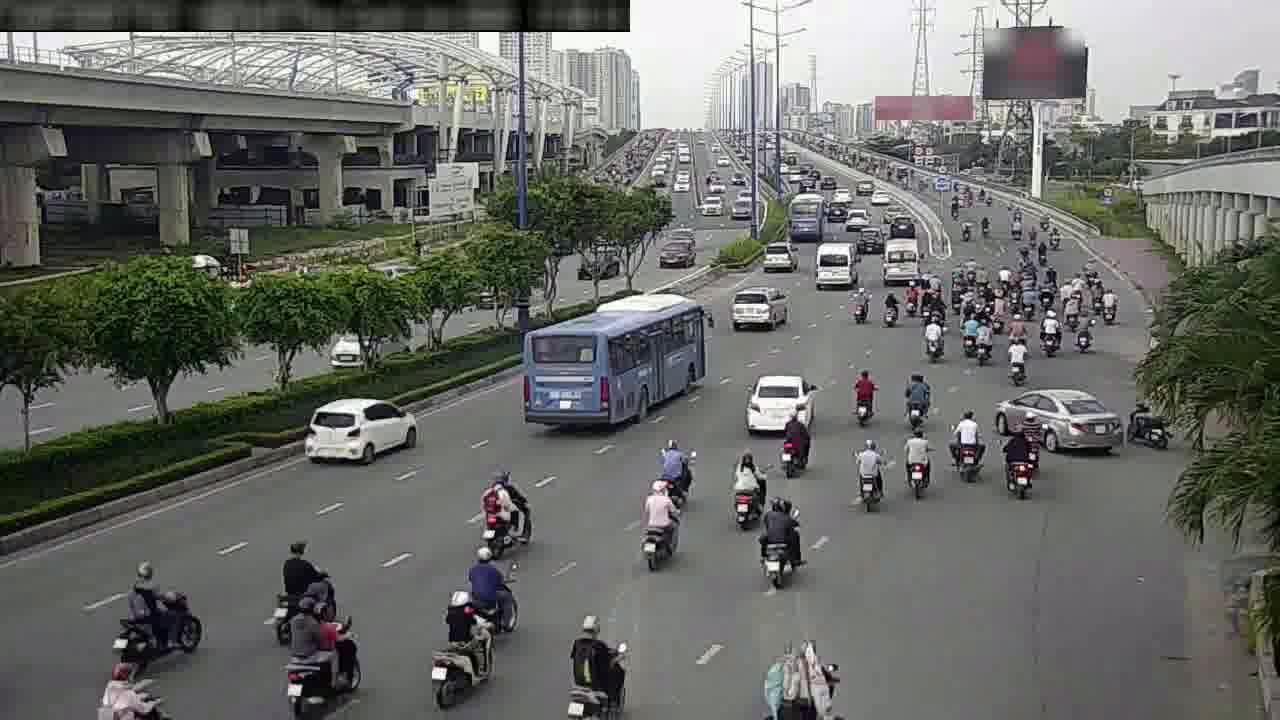14: (542, 299, 705, 410), (812, 242, 854, 288), (879, 237, 919, 279)
container: (994, 381, 1116, 462), (302, 388, 422, 461), (745, 371, 812, 433), (726, 281, 787, 330), (812, 242, 854, 288), (757, 237, 796, 272)
motorbike: (109, 555, 201, 671), (286, 587, 366, 707), (430, 592, 495, 696), (565, 611, 626, 712), (273, 536, 338, 628), (99, 636, 166, 715), (755, 487, 807, 588), (771, 635, 839, 707), (634, 480, 683, 572), (478, 470, 531, 554), (465, 545, 517, 628), (847, 431, 886, 512), (1127, 391, 1176, 455), (726, 451, 764, 532), (946, 408, 986, 481), (655, 430, 694, 503), (898, 424, 935, 500), (776, 400, 813, 475), (1003, 418, 1039, 493), (899, 365, 933, 429), (846, 363, 878, 426), (1002, 335, 1031, 387), (1069, 309, 1098, 356), (919, 314, 946, 362), (1037, 310, 1063, 358), (970, 321, 996, 366), (846, 282, 871, 326), (1095, 283, 1120, 326), (956, 312, 980, 356), (879, 285, 901, 328), (1004, 307, 1028, 344), (1060, 287, 1083, 325), (1005, 277, 1026, 315), (1035, 266, 1055, 305), (947, 274, 966, 312), (923, 288, 942, 325), (903, 278, 922, 314), (923, 268, 942, 300), (982, 285, 995, 319)
